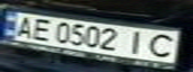0: (81, 24, 103, 49), (51, 19, 72, 45)
2: (100, 25, 124, 53)
5: (66, 21, 87, 47)
A: (9, 12, 39, 38)
C: (142, 31, 184, 60)
E: (27, 16, 54, 42)
I: (121, 28, 151, 56)
